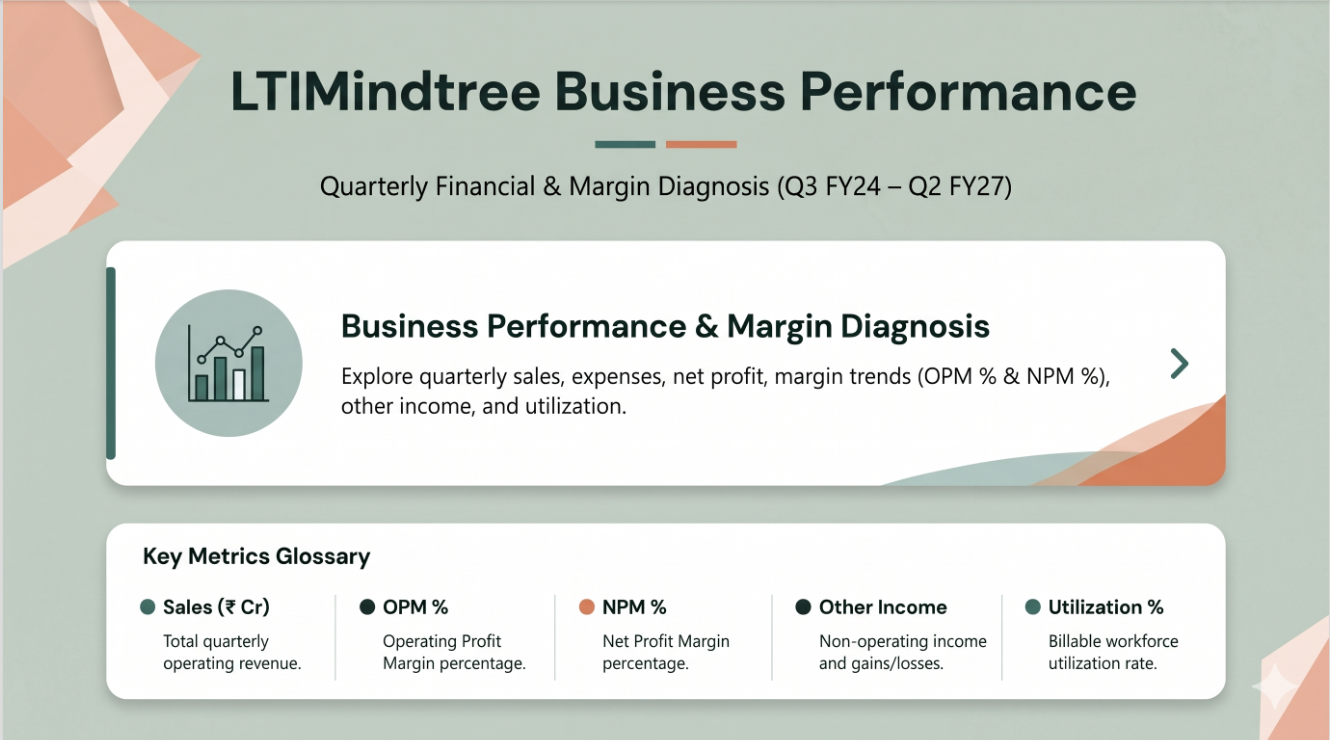

What the dashboard file says about the page in this screenshot:
{"tool":"powerbi","page":{"name":"Homepage","canvas":[1920,1080],"ordinal":0},"visuals":[{"type":"actionButton","box":[150,340,1630,366],"z":0}]}

Visuals, with their boxes in screenshot pixels (x1, y1, x2, y2), scaled from the page's 1920x1080 canvas onto the 1330x740 screenshot:
actionButton: 104, 233, 1233, 484
